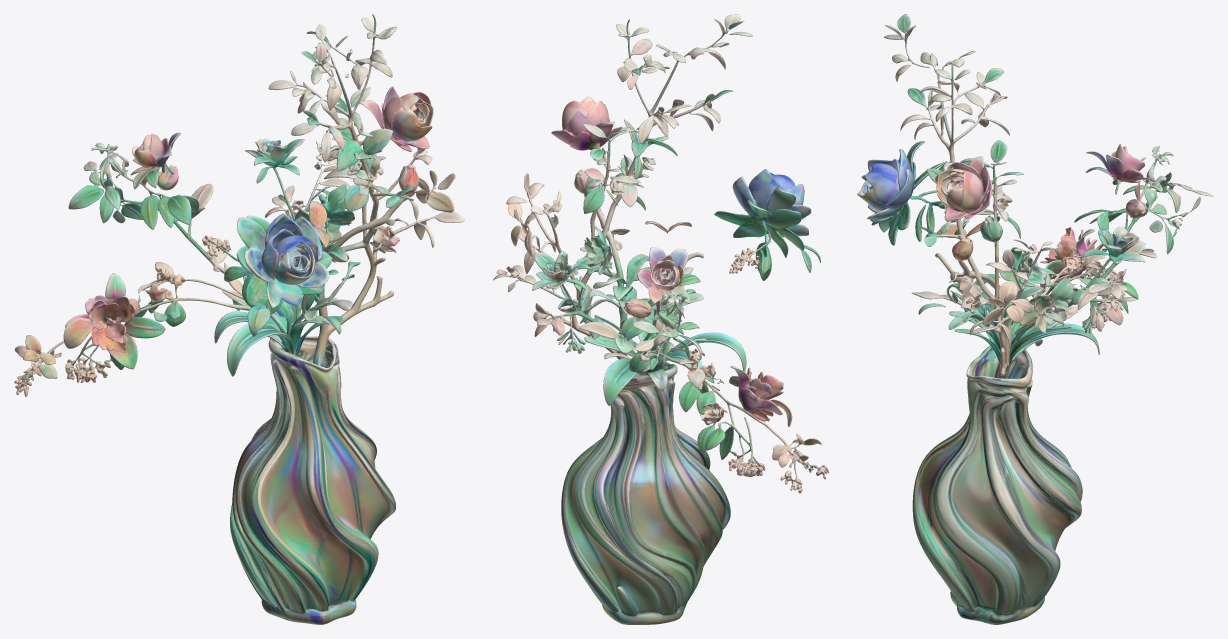
The model's file is Meshy_AI_Iridescent_Bouquet_in_0426125249_texture-v1.glb.
3 views of the same model, side by side, from view 1: azimuth 30°, elevation 25°; view 2: azimuth 150°, elevation 25°; view 3: azimuth 270°, elevation 25° (orthographic). The views are drawn at different scales.
Visible parts, largest first — view 1: Mesh_0; view 2: Mesh_0; view 3: Mesh_0.
Boxes of the visible parts, x1=… form: Mesh_0: x1=14, y1=14, x2=464, y2=624; Mesh_0: x1=493, y1=14, x2=828, y2=624; Mesh_0: x1=857, y1=14, x2=1213, y2=624.
Bounding box in the file's own units: 0.6707 × 1 × 0.569.
1 material, 1 textured.
